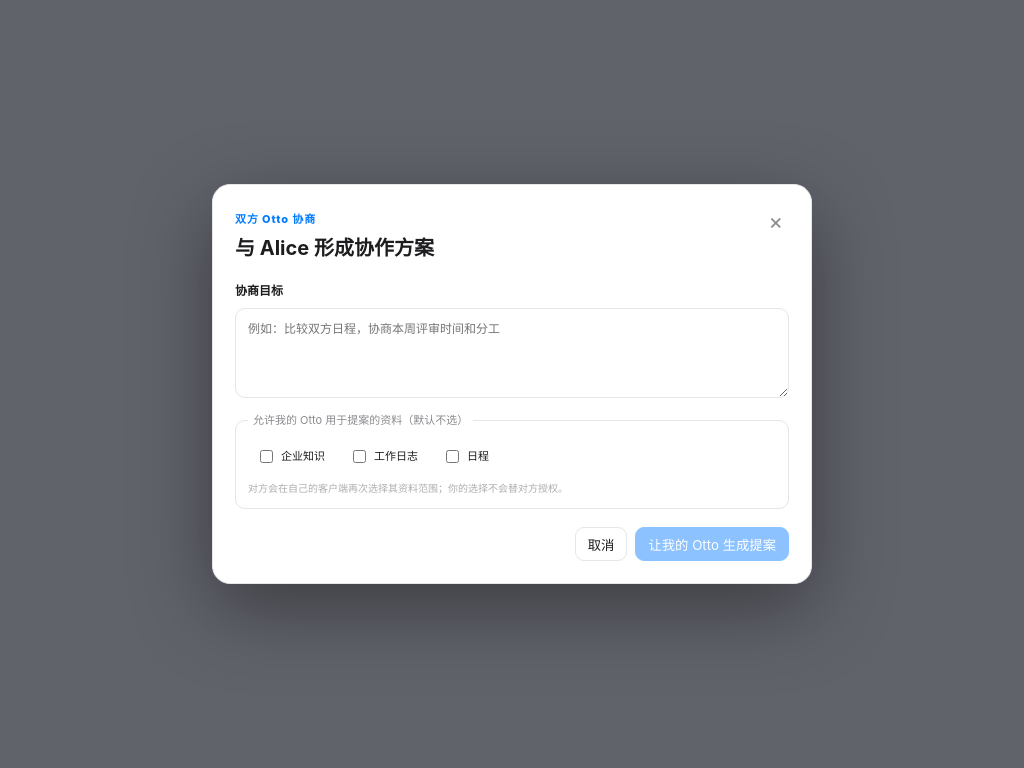
it: 双方 Otto 协商发起弹窗 › 未选择资料也允许生成无资料提案，但明确不读取数据源
Step 1. Type "协商会议" into the text box labelled "协商目标" → (512, 353), box x1=235 y1=308 x2=789 y2=398
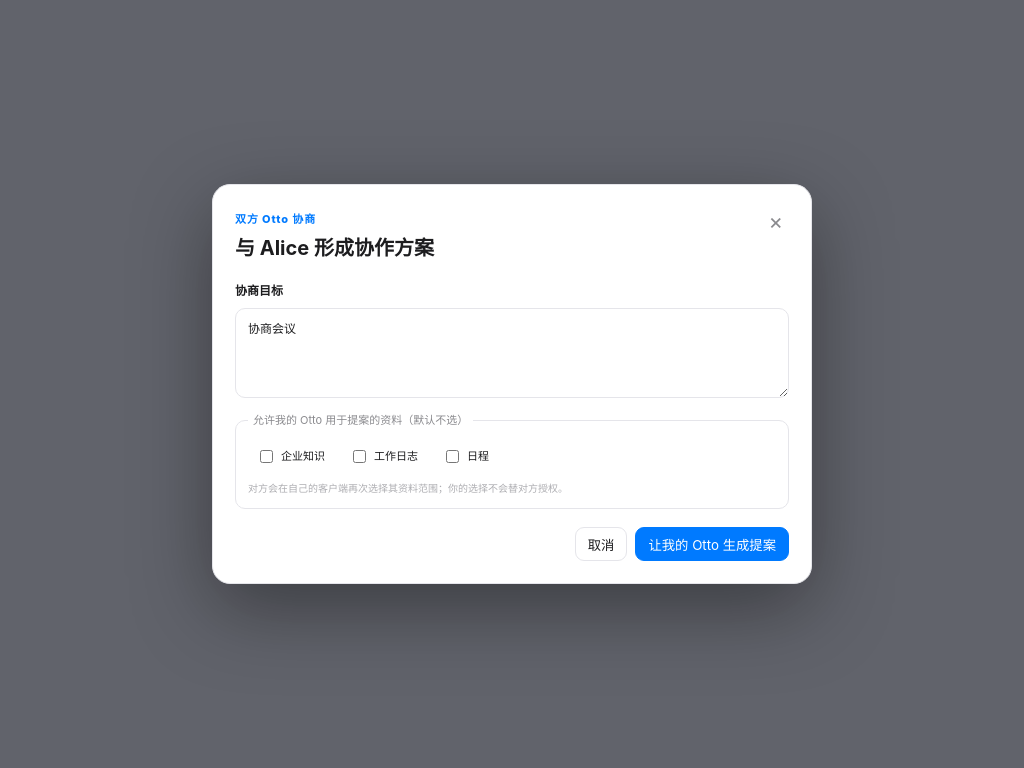
Step 2. Click the button "让我的 Otto 生成提案" → (712, 544), box x1=635 y1=527 x2=789 y2=561
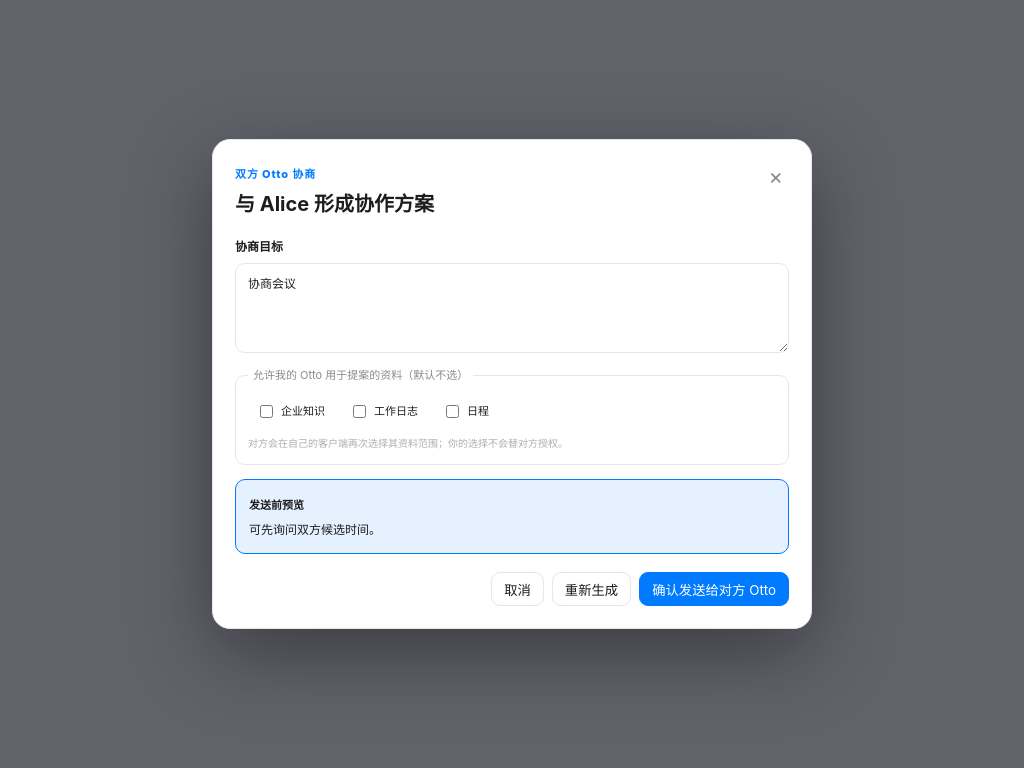
Now the text "可先询问双方候选时间。" is shown, box x1=249 y1=522 x2=381 y2=538
